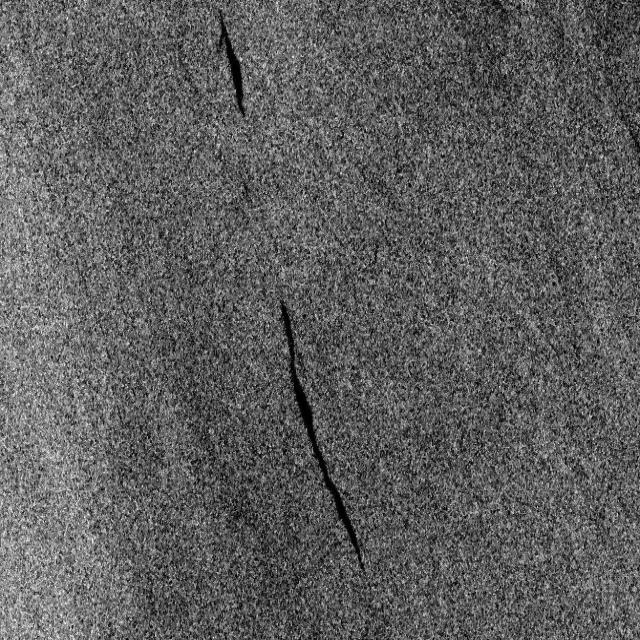oil-spill: (263, 286, 369, 584), (207, 4, 255, 125)
